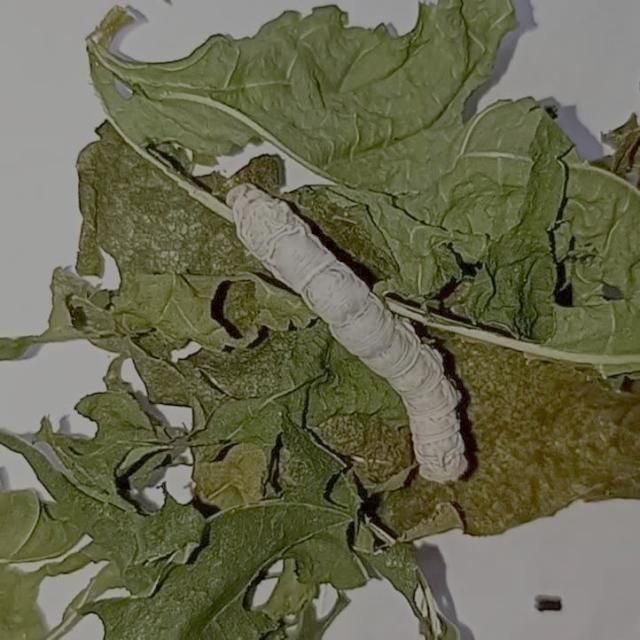Healthy: (207, 166, 494, 502)
